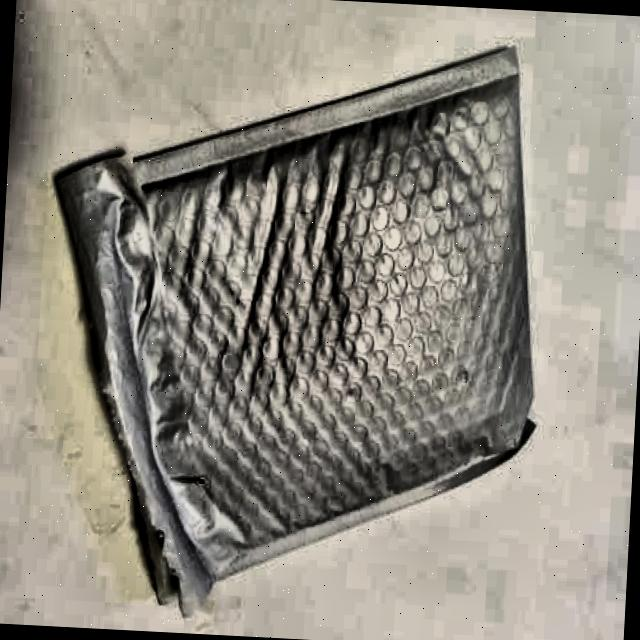plastic: (43, 18, 555, 633)
